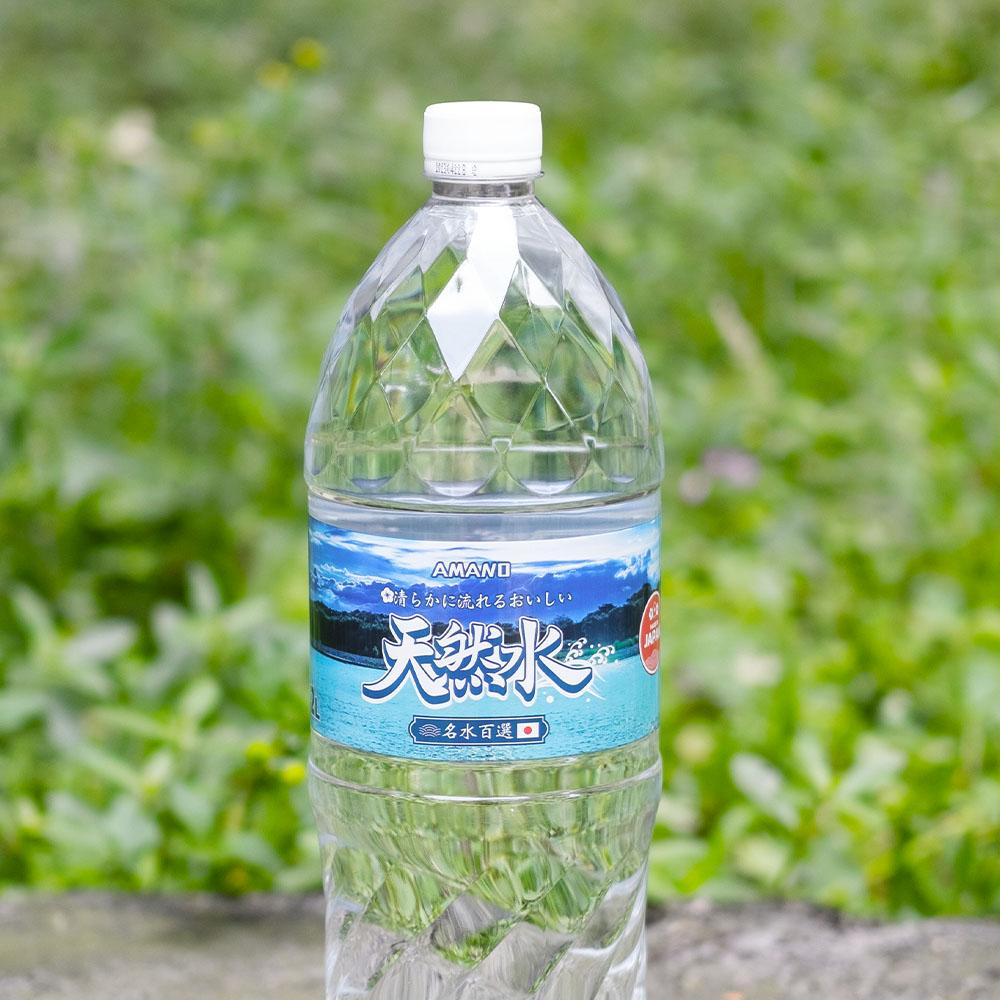plastic: (305, 101, 662, 999)
